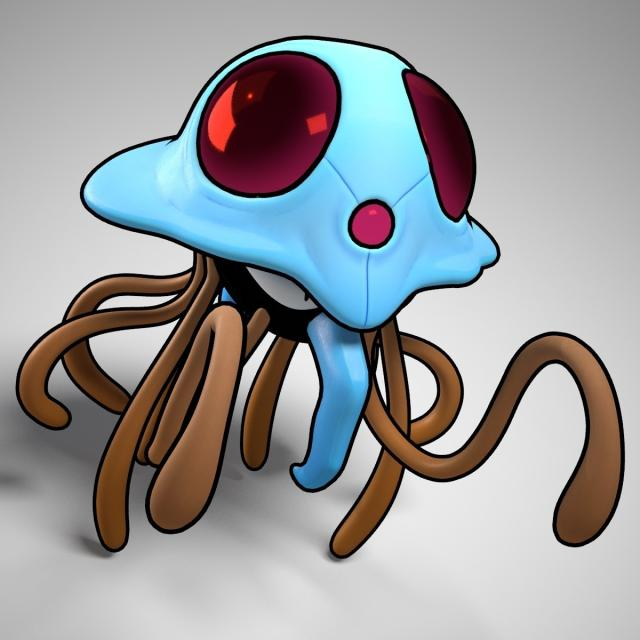Tentacruel: (67, 40, 500, 444)
